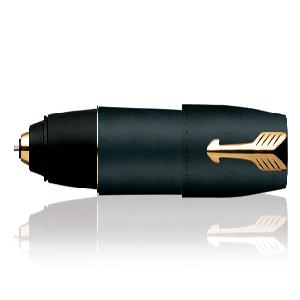pen: (10, 100, 293, 205)
